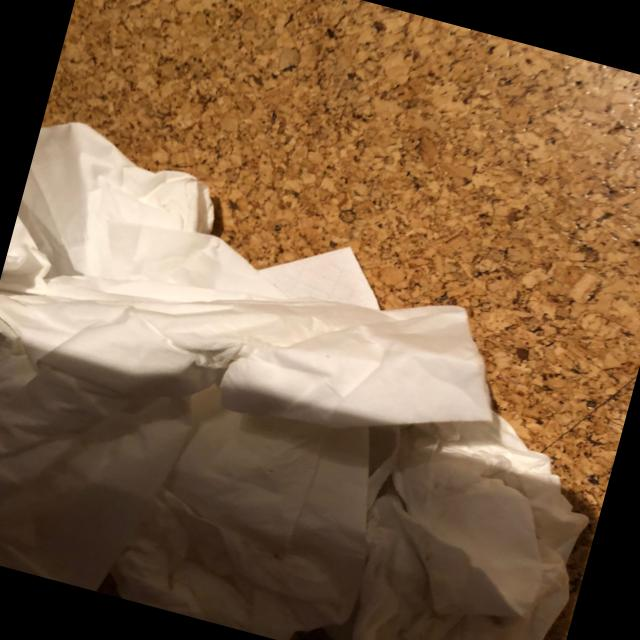organic waste: (0, 108, 553, 493), (0, 359, 401, 640), (335, 387, 618, 640)
